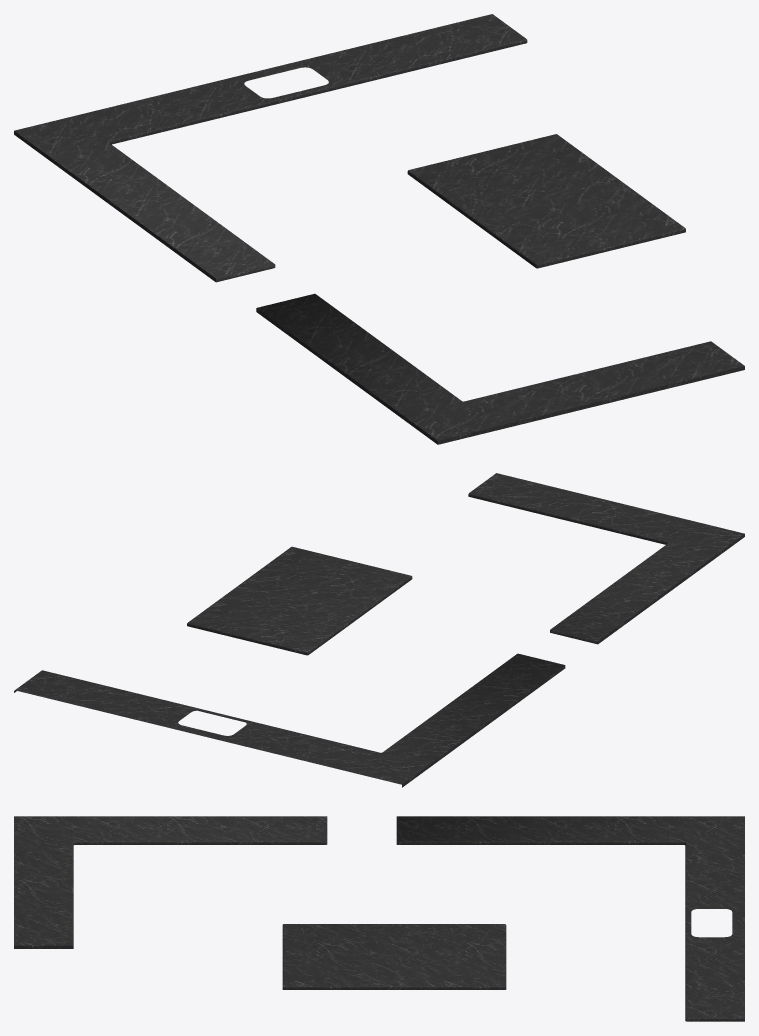
File: 2345_kitchen_Countertops_QuartzEtNoir.gltf
The picture shows the model from 3 angles, top to bottom: view 1: azimuth 30°, elevation 25°; view 2: azimuth 150°, elevation 25°; view 3: azimuth 270°, elevation 25°; orthographic projection. The views are drawn at different scales.
Visible parts, largest first — view 1: Line23257; view 2: Line23257; view 3: Line23257.
Part boxes in pixels (box(x1,y1,x2,y2)): Line23257: box(14, 14, 744, 444); Line23257: box(14, 473, 744, 787); Line23257: box(14, 816, 744, 1021).
Size of the model in its own units: 6.4 by 0.05 by 9.8.
Materials: 1 (1 with a texture image).
